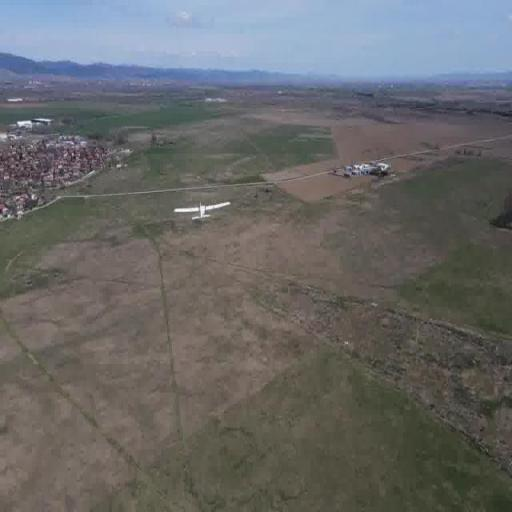uav: (172, 194, 232, 228)
